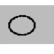no answer: (6, 12, 38, 38)
